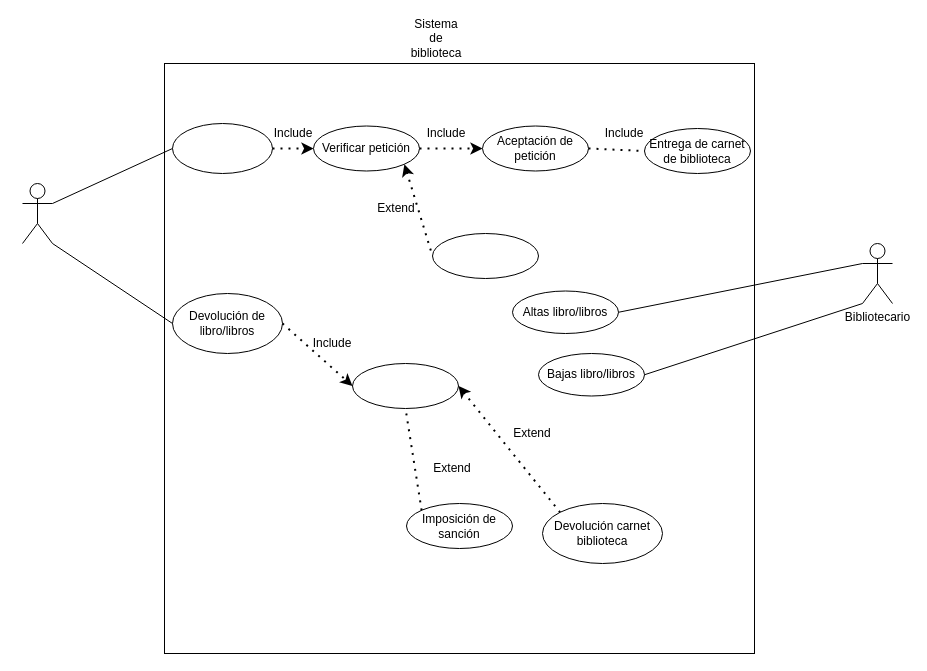
This 927x671 diagram has some shape labels left out. The centre of each missing label's shape, as x and y in pixels:
Actualizar stock de libros: (x=405, y=385)
Negación de petición: (x=485, y=255)
Petición de libro/libros: (x=222, y=148)
Usuario: (x=37, y=213)
